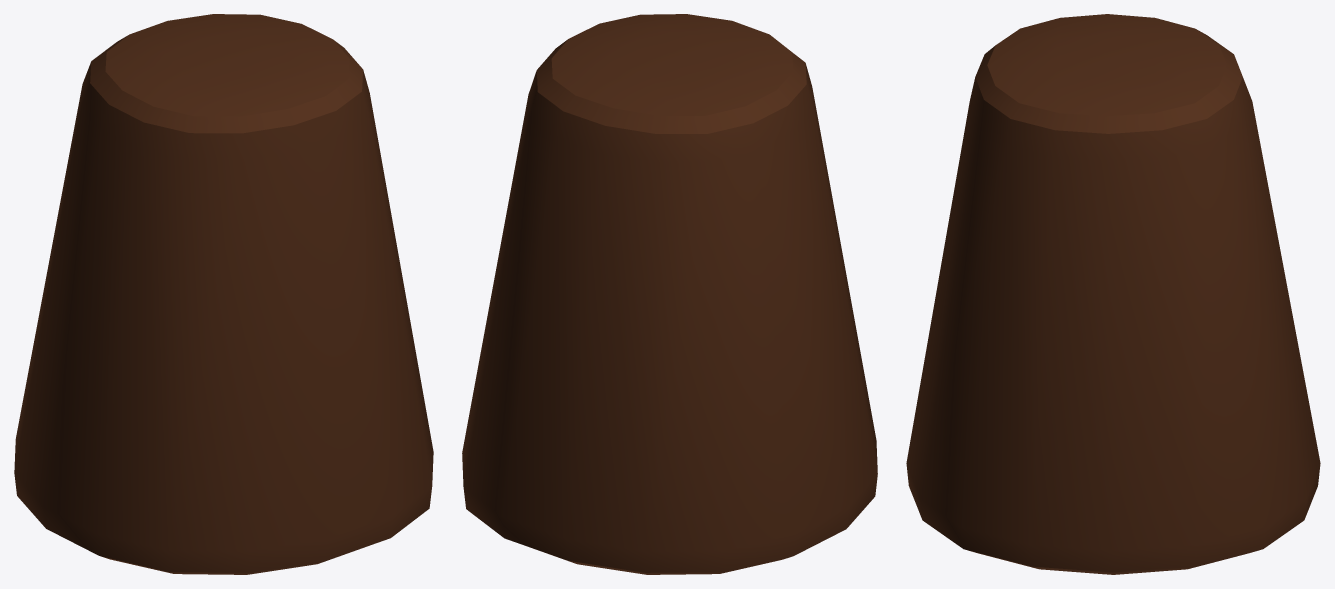
File: RockPlatform_Tall.fbx
The picture shows the model from 3 angles, left to right: view 1: azimuth 30°, elevation 25°; view 2: azimuth 150°, elevation 25°; view 3: azimuth 270°, elevation 25°; orthographic projection.
Visible parts, largest first — view 1: RockPlatform_Tall; view 2: RockPlatform_Tall; view 3: RockPlatform_Tall.
Part boxes in pixels (x1,y1,x2,y2): RockPlatform_Tall: (14, 14, 433, 574); RockPlatform_Tall: (462, 14, 877, 574); RockPlatform_Tall: (906, 14, 1320, 574).
Bounding box in the file's own units: 358 × 426 × 358.
